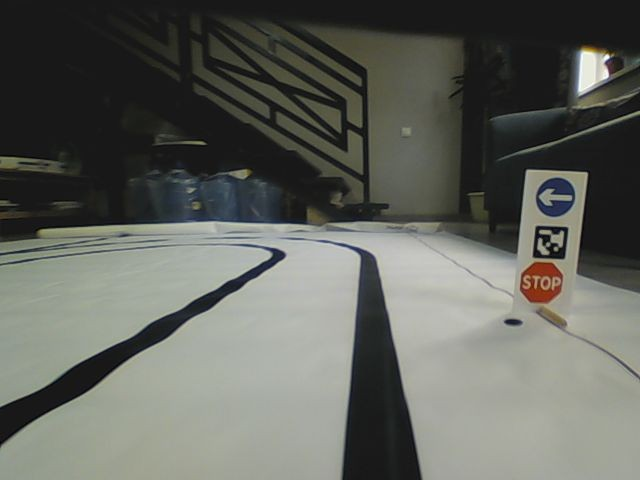Stop: (516, 260, 564, 303)
